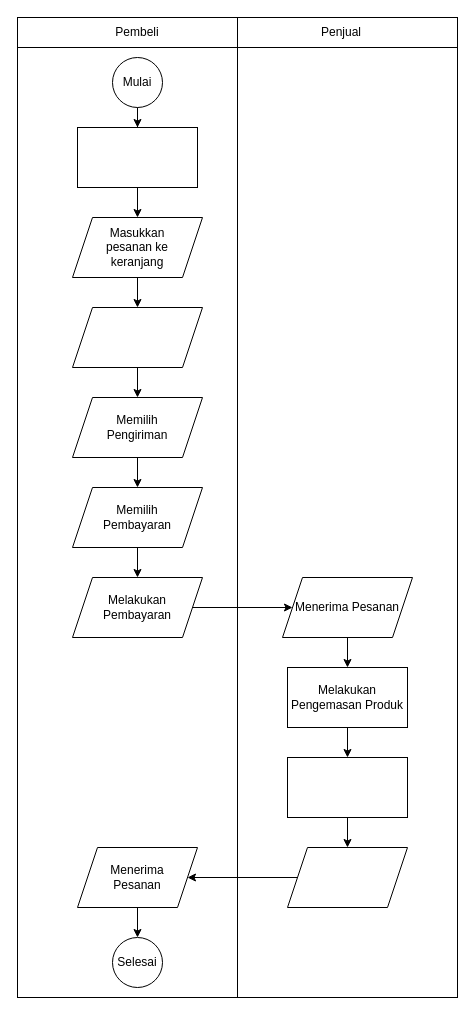
This 475x1015 diagram has some shape labels left out. The shapes that lost their labels are listed below. From the top down, each one's centre as x and y in pixels, then its label:
At (137,157): "Memilih Hoodie".
At (137,337): "Melakukan Checkout".
At (347,787): "Memberikan Produk ke Pengiriman".
At (347,877): "Mengirim Konfirmasi".
